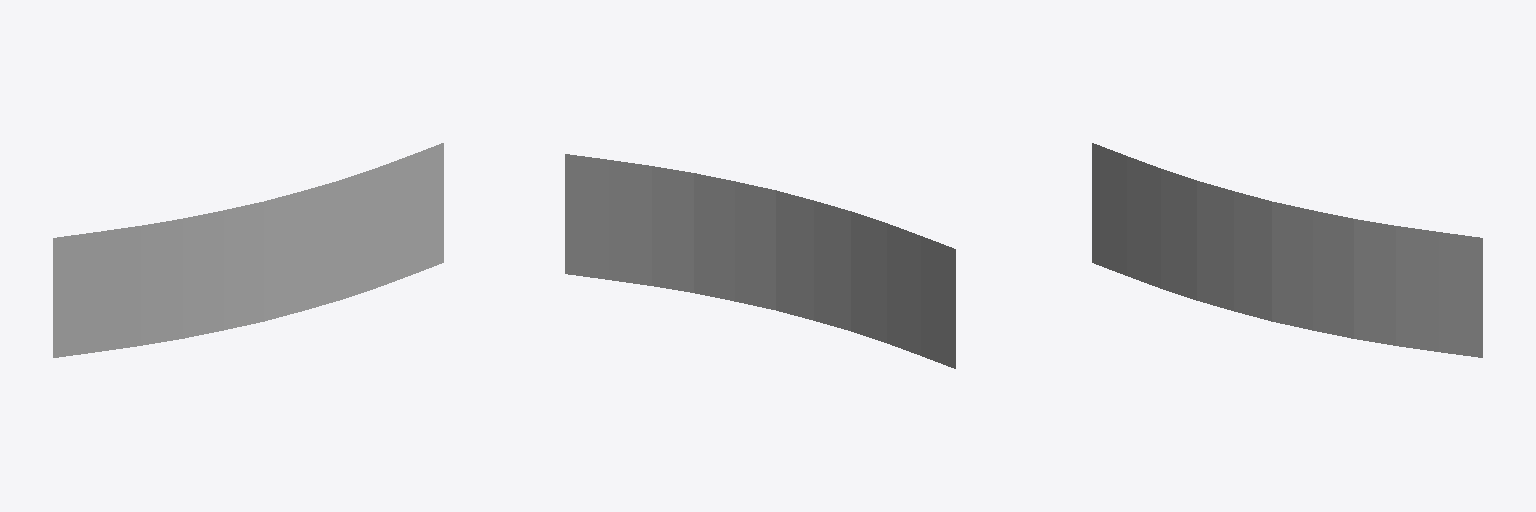
Rendered from facing_VIEW_backWall.obj.
3 views of the same model, side by side, from view 1: azimuth 30°, elevation 25°; view 2: azimuth 150°, elevation 25°; view 3: azimuth 330°, elevation 25° (orthographic).
Parts seen in each view (by area): view 1: facing_VIEW.001_Cylinder.007_facing_VIEW.001_Cylinder.010; view 2: facing_VIEW.001_Cylinder.007_facing_VIEW.001_Cylinder.010; view 3: facing_VIEW.001_Cylinder.007_facing_VIEW.001_Cylinder.010.
Boxes of the visible parts, <box> form: facing_VIEW.001_Cylinder.007_facing_VIEW.001_Cylinder.010: <box>53,143,443,357</box>; facing_VIEW.001_Cylinder.007_facing_VIEW.001_Cylinder.010: <box>565,154,955,368</box>; facing_VIEW.001_Cylinder.007_facing_VIEW.001_Cylinder.010: <box>1092,143,1482,357</box>.
Size of the model in its own units: 17.11 by 5.03 by 1.16.